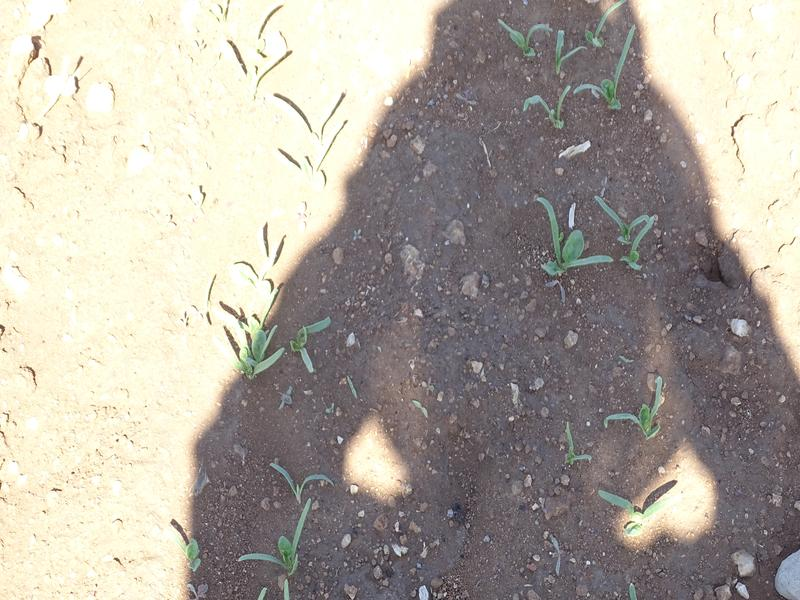Espinaca: (201, 18, 345, 202), (192, 228, 336, 383), (529, 184, 657, 302), (507, 19, 647, 113), (248, 462, 324, 600), (617, 372, 676, 441), (595, 478, 674, 528), (557, 431, 590, 469)
